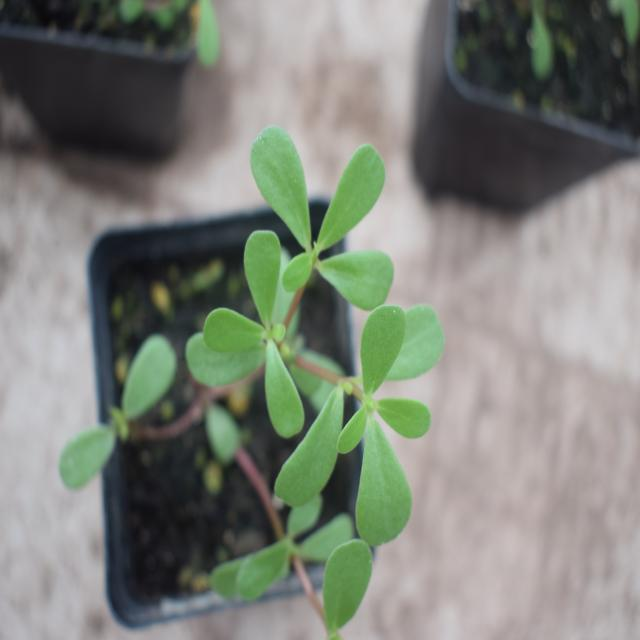purslane: (127, 126, 453, 630)
